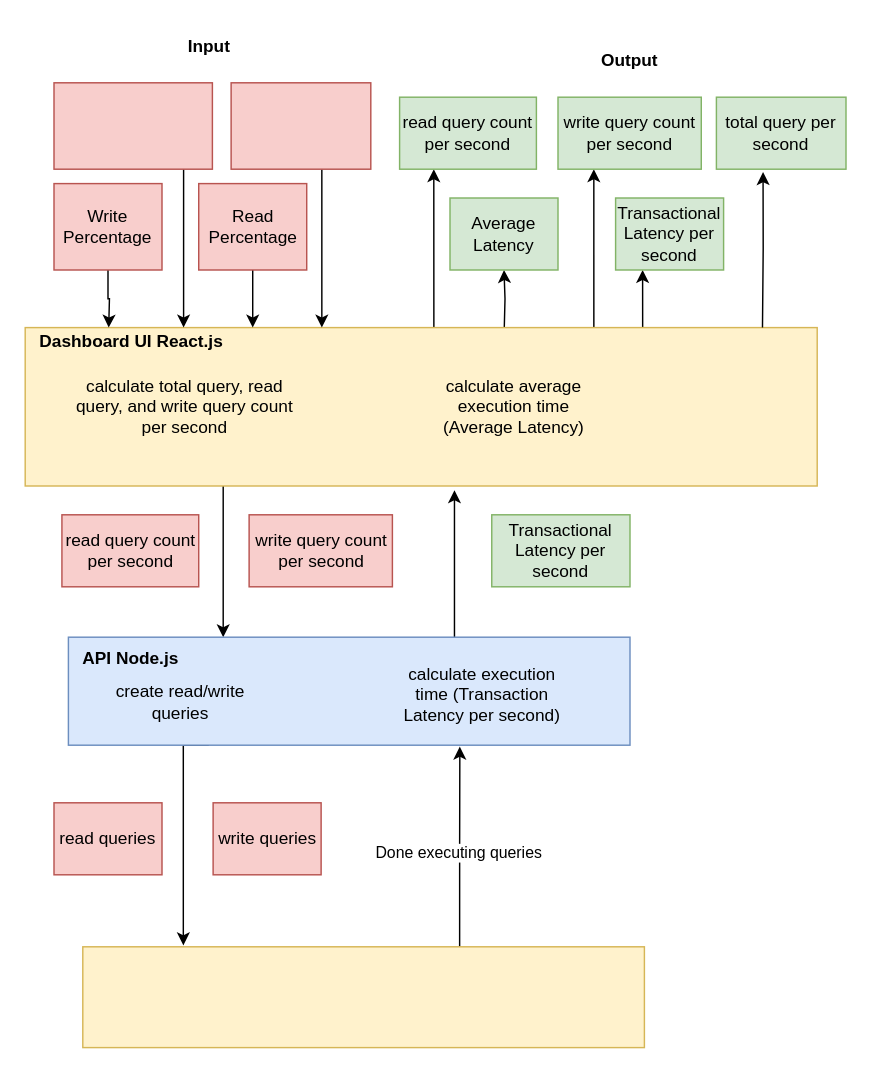
The diagram is 871 pixels wide and 1073 high, and some of its shapes have lost their labels. The box of each missing label's shape, as (x1, y1, x2, y2) in pixels:
Database (DB) MariaDB SkySQL: (81, 945, 644, 1048)
Traffic Multiplier: (53, 81, 212, 169)
Variation Percentage: (230, 81, 371, 169)
